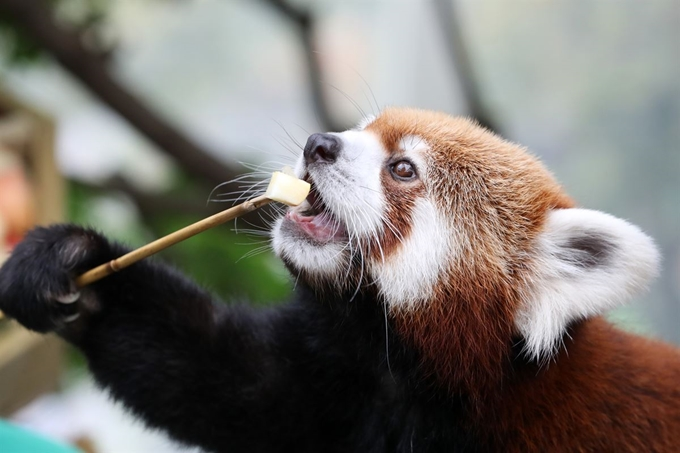redPanda: (8, 102, 676, 449)
